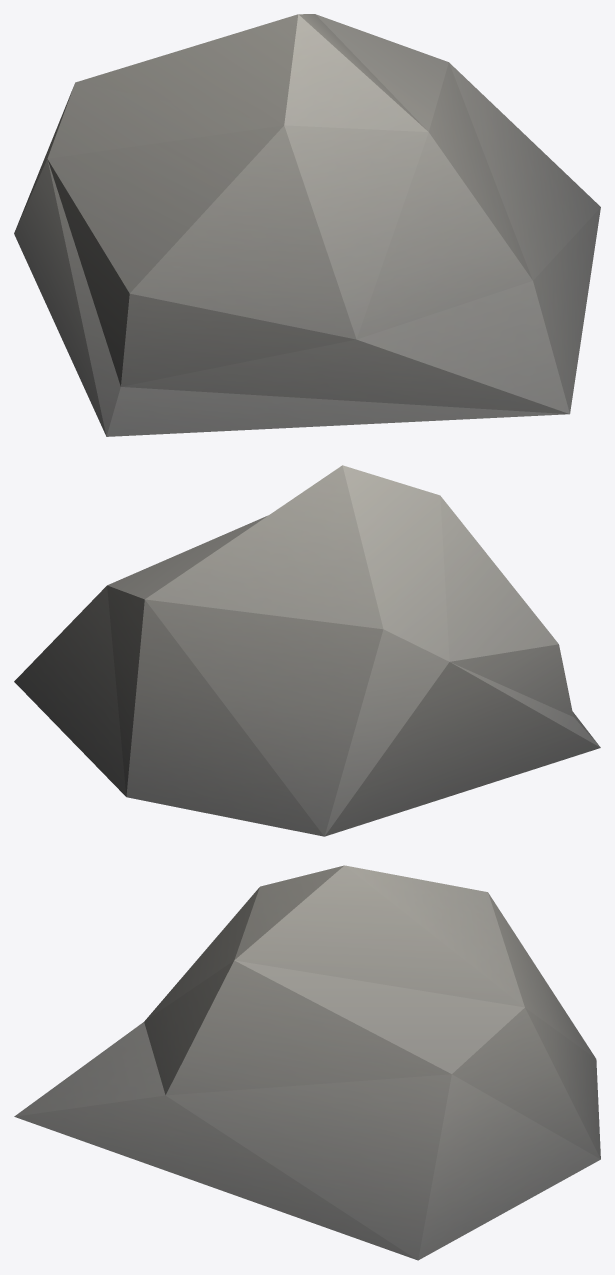
The model's file is Stone_1.fbx.
3 views of the same model, one above another, from view 1: azimuth 30°, elevation 25°; view 2: azimuth 150°, elevation 25°; view 3: azimuth 270°, elevation 25° (orthographic). The views are drawn at different scales.
Parts seen in each view (by area): view 1: rock; view 2: rock; view 3: rock.
Boxes of the visible parts, x1,y1,x2,y2 form: rock: (14, 14, 600, 436); rock: (14, 465, 600, 836); rock: (14, 865, 600, 1260).
Size of the model in its own units: 0.9304 by 0.4594 by 0.9006.
